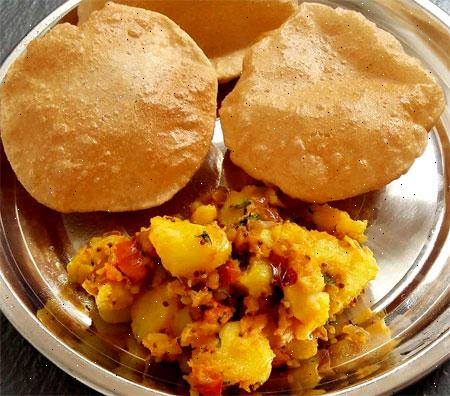puri: (0, 0, 450, 213)
